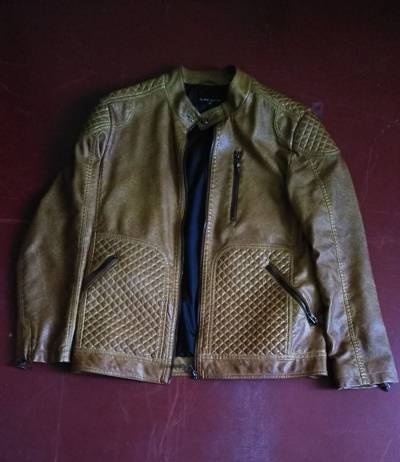Blazer: (8, 47, 381, 400)
